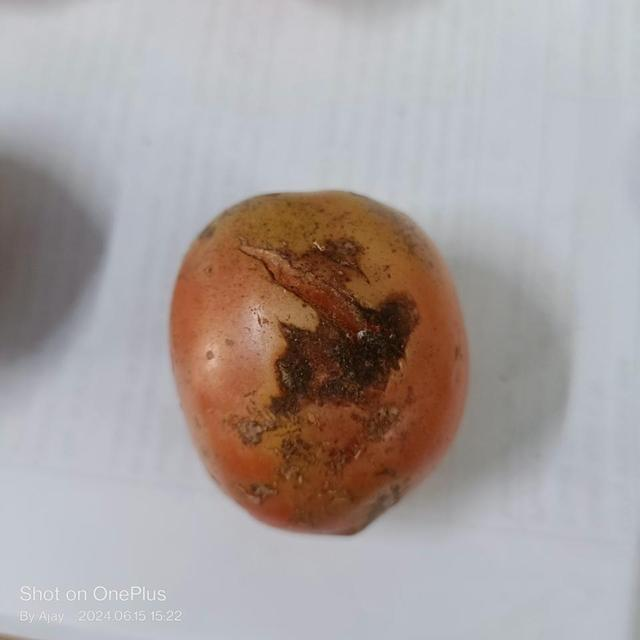Cracking Fruit: (90, 109, 269, 373)
